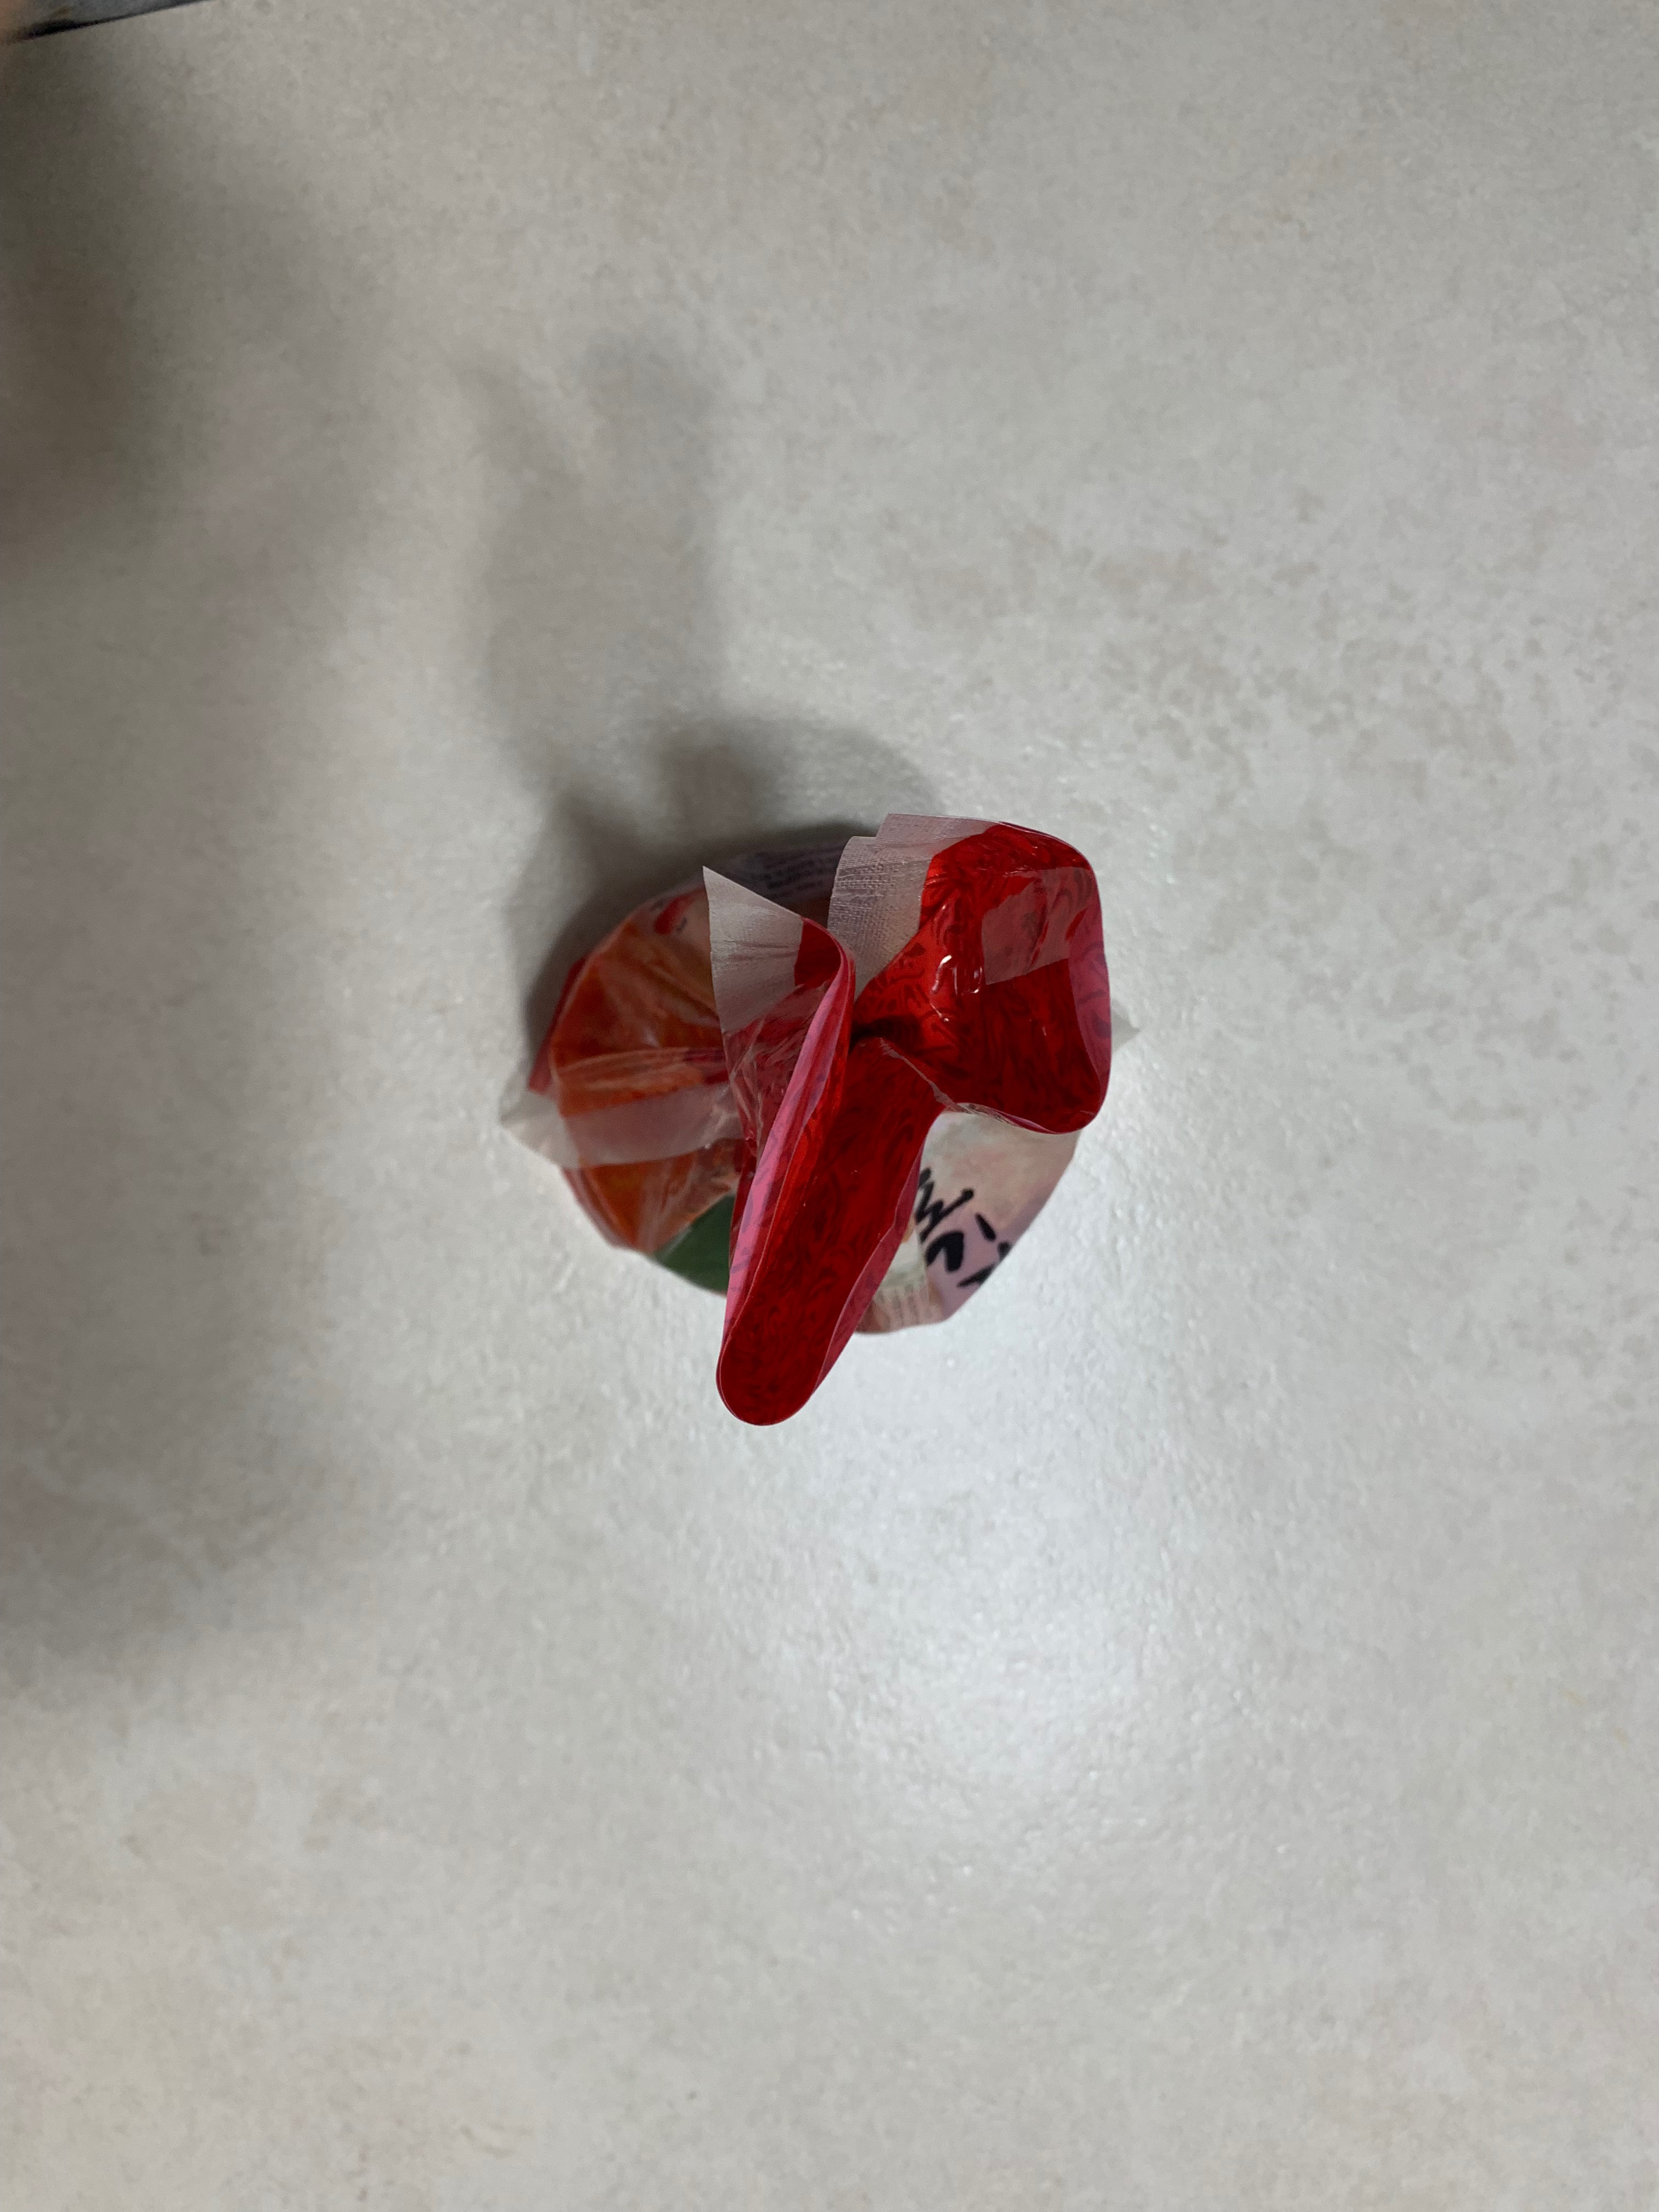kimchi: (530, 819, 1112, 1432)
